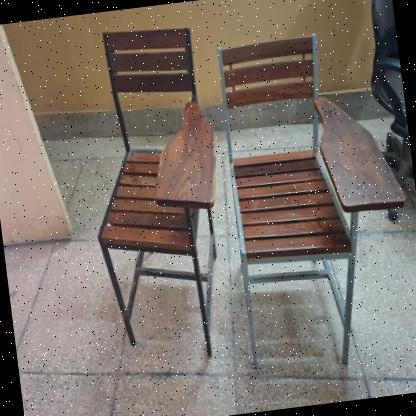chair: (200, 19, 416, 380), (66, 16, 242, 370)
